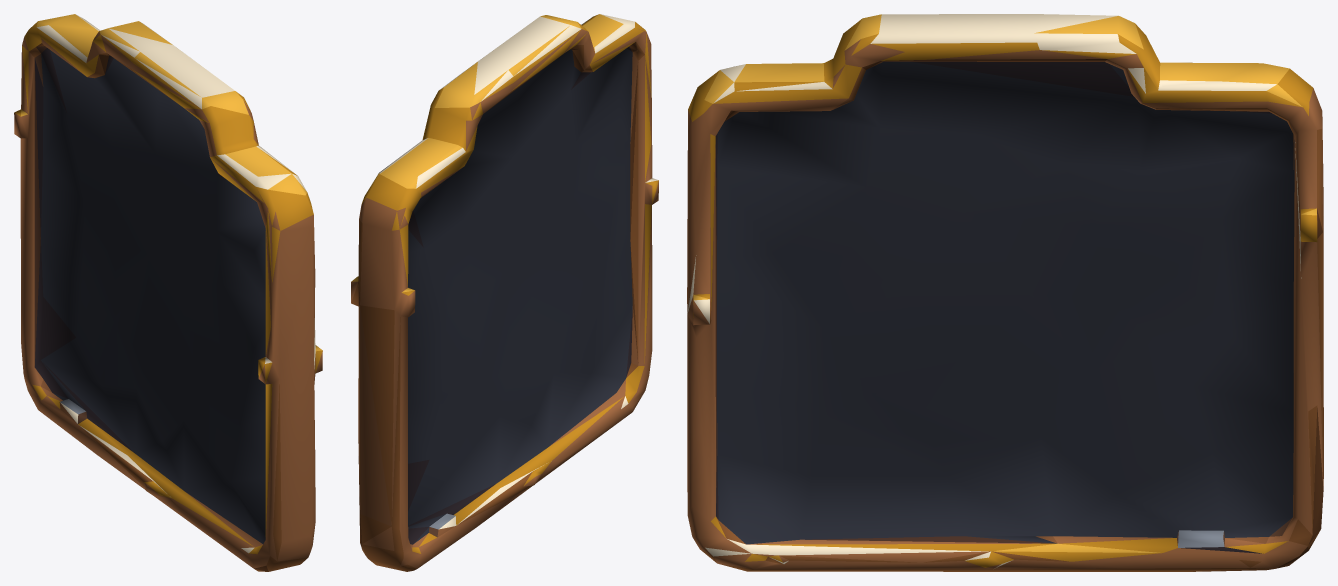
File: SM_board_menu.glb
The picture shows the model from 3 angles, left to right: view 1: azimuth 30°, elevation 25°; view 2: azimuth 150°, elevation 25°; view 3: azimuth 270°, elevation 25°; orthographic projection. The views are drawn at different scales.
Visible parts, largest first — view 1: SM_board_menu; view 2: SM_board_menu; view 3: SM_board_menu.
Boxes of the visible parts, x1=… form: SM_board_menu: x1=14, y1=14, x2=322, y2=571; SM_board_menu: x1=351, y1=14, x2=658, y2=571; SM_board_menu: x1=687, y1=14, x2=1323, y2=571.
Size of the model in its own units: 0.1116 by 0.8 by 0.8568.
1 material, 1 textured.
